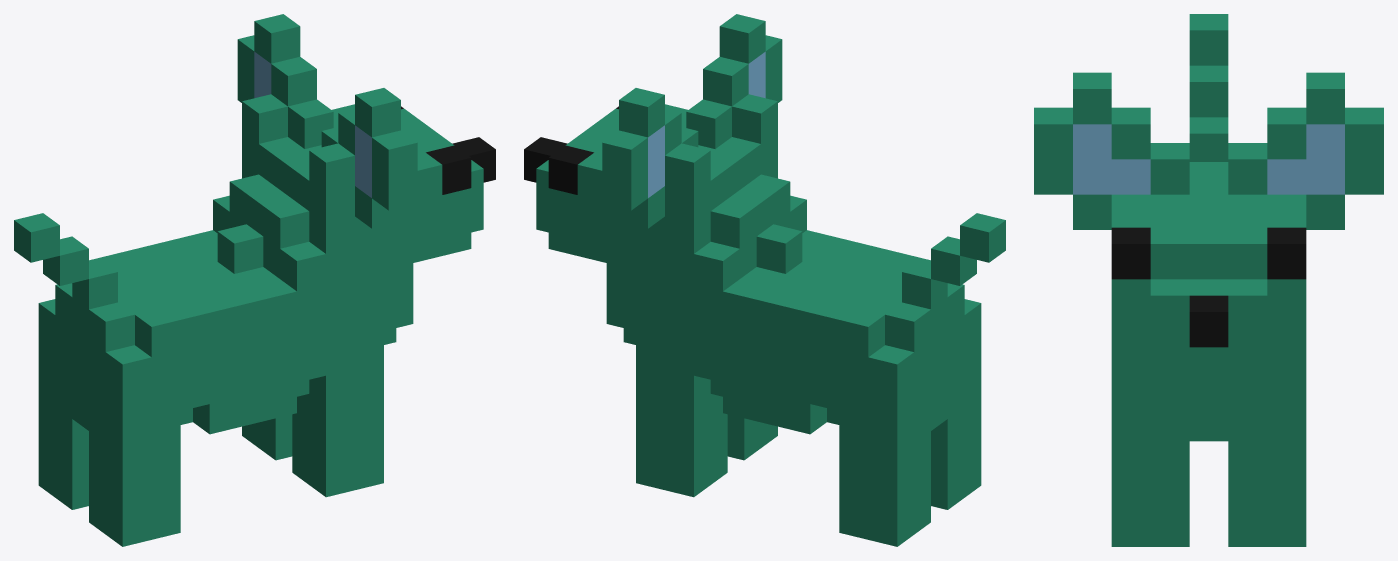
File: dog.glb
3 views of the same model, side by side, from view 1: azimuth 30°, elevation 25°; view 2: azimuth 150°, elevation 25°; view 3: azimuth 270°, elevation 25° (orthographic). The views are drawn at different scales.
Visible parts, largest first — view 1: geo1; view 2: geo1; view 3: geo1.
Part boxes in pixels (x1,y1,x2,y2): geo1: (14,14,495,546); geo1: (524,14,1005,546); geo1: (1034,14,1383,546).
Size of the model in its own units: 1.6 by 1.3 by 0.9.
1 material, 1 textured.
